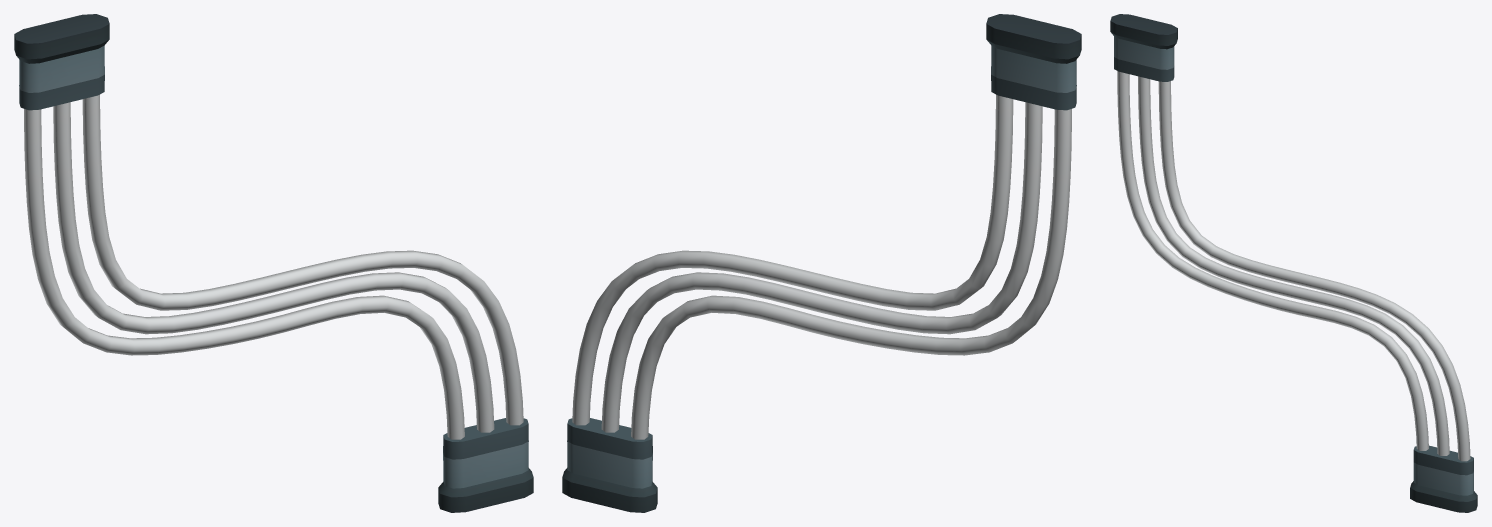
The model's file is Cable_type_C_002.fbx.
3 renders of one model, left to right at view 1: azimuth 30°, elevation 25°; view 2: azimuth 150°, elevation 25°; view 3: azimuth 330°, elevation 25°, orthographic. The views are drawn at different scales.
Visible parts, largest first — view 1: Cable_type_C_002; view 2: Cable_type_C_002; view 3: Cable_type_C_002.
Boxes of the visible parts, x1=… form: Cable_type_C_002: x1=14, y1=14, x2=533, y2=512; Cable_type_C_002: x1=562, y1=14, x2=1081, y2=512; Cable_type_C_002: x1=1110, y1=14, x2=1477, y2=512.
Bounding box in the file's own units: 123 × 7.83 × 131.
